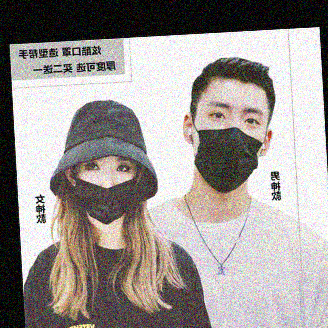with_mask: (190, 98, 269, 191), (73, 156, 138, 224)
